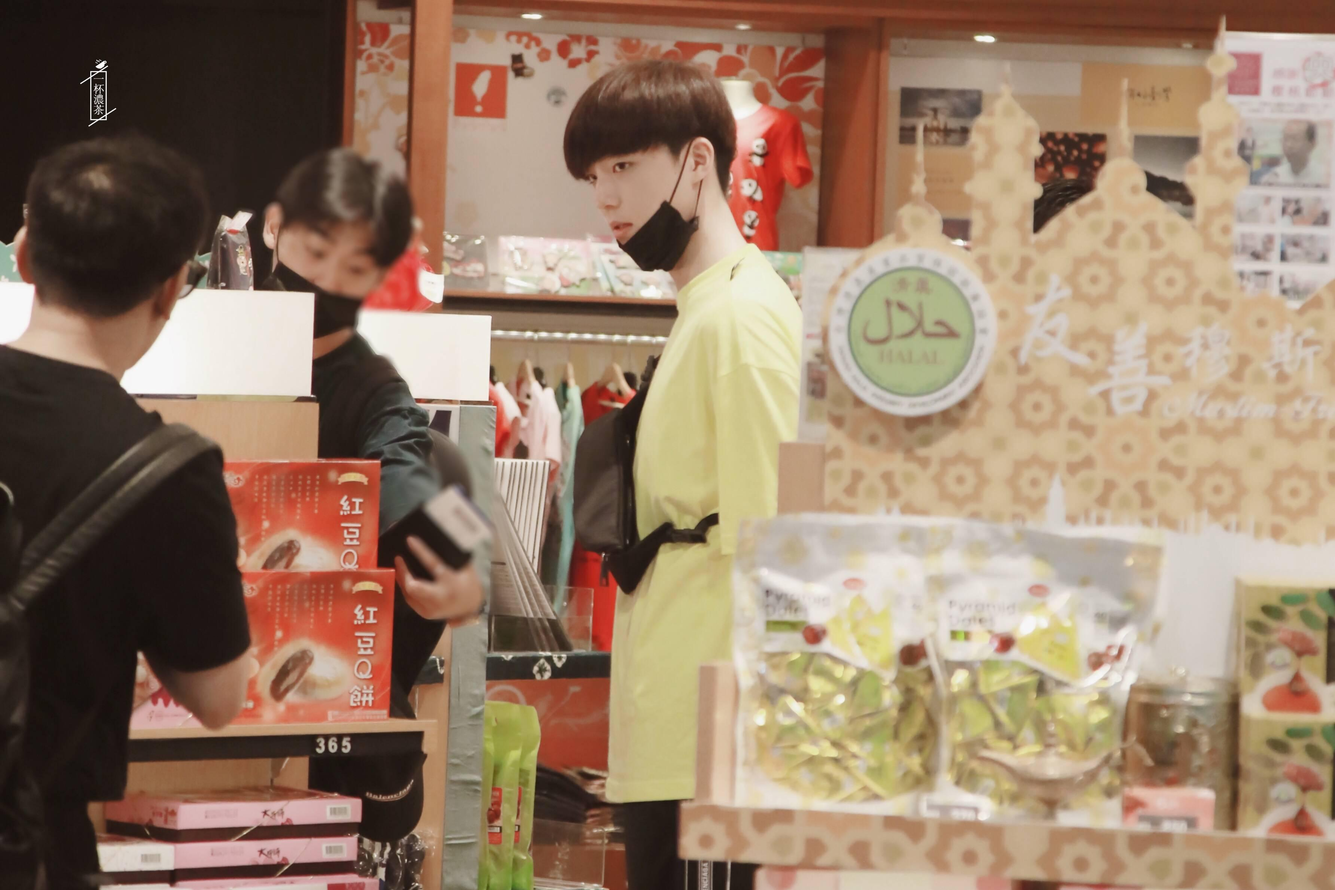WRONG: (271, 222, 385, 342), (584, 145, 676, 271)
